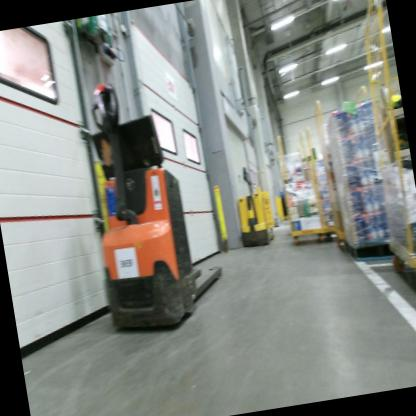pallet_truck: (67, 64, 236, 346), (226, 155, 279, 254)
